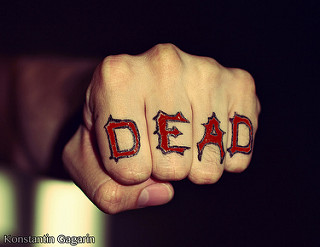fist: (77, 46, 258, 205)
